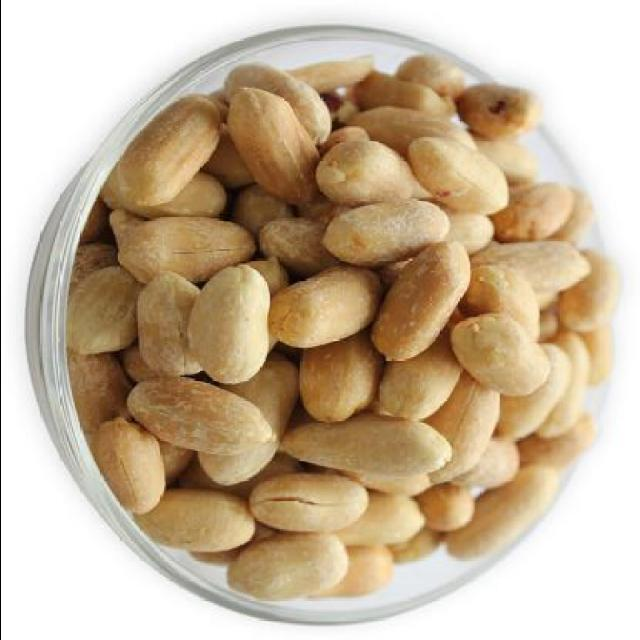Frutta secca: (71, 54, 618, 604)
